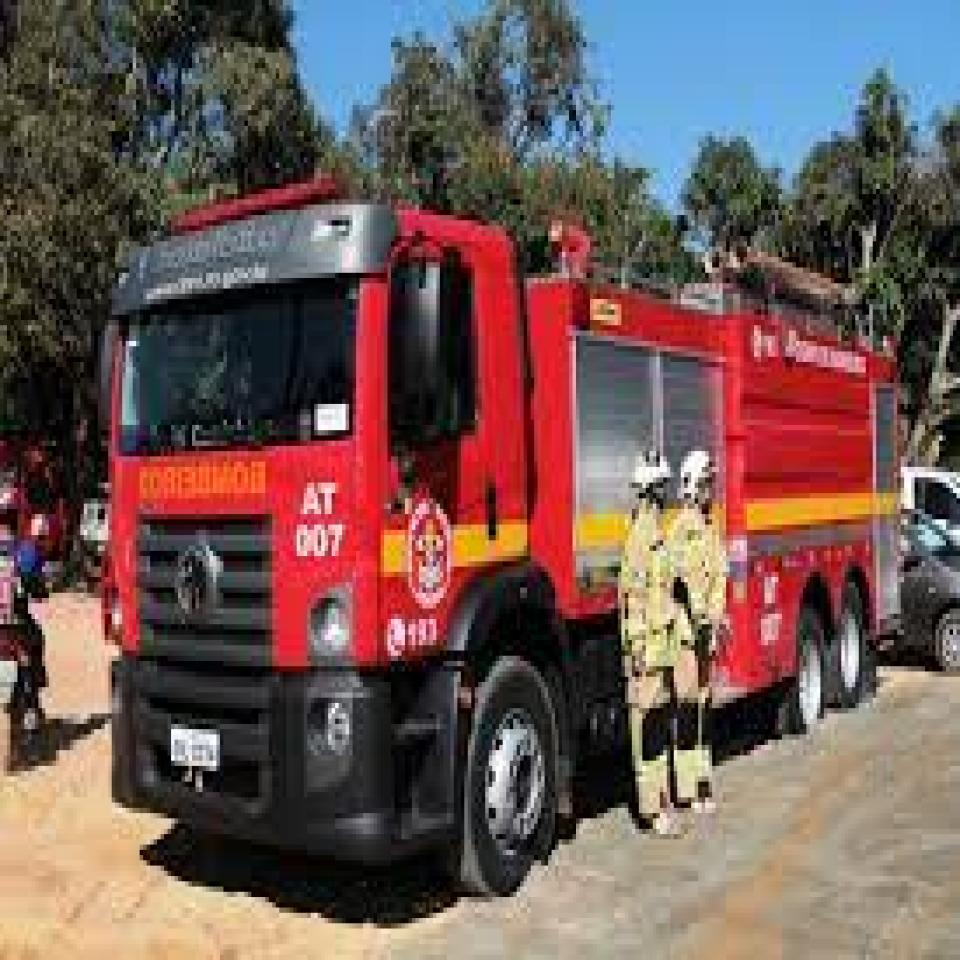viatura: (104, 177, 901, 896)
